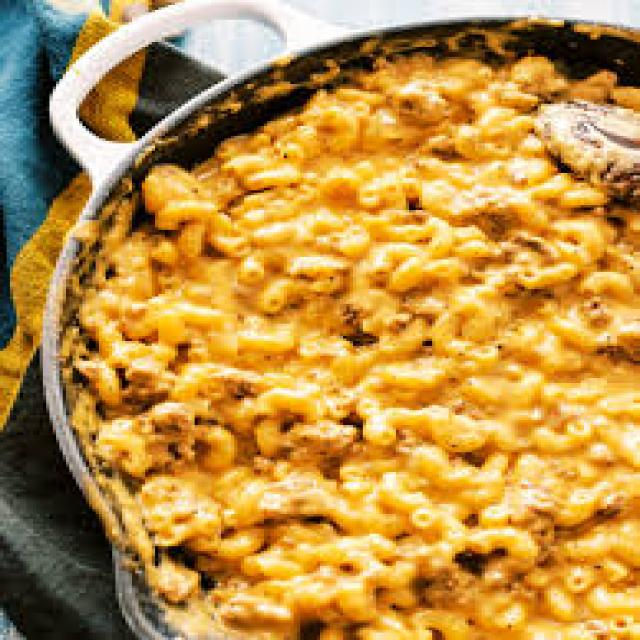biodegradable: (63, 52, 637, 637)
